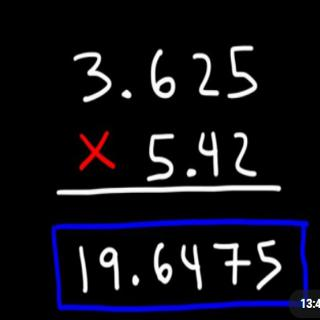.: (179, 240, 207, 293), (117, 85, 140, 106), (181, 165, 199, 182), (130, 272, 141, 288)
1: (68, 241, 92, 298)
2: (185, 44, 219, 103), (226, 128, 260, 181)
3: (66, 41, 115, 102)
4: (198, 124, 221, 180)
5: (224, 40, 261, 104), (144, 126, 178, 182), (254, 233, 282, 292)
6: (144, 46, 179, 103), (147, 240, 175, 285)
7: (210, 232, 253, 293)
9: (95, 243, 122, 295)
